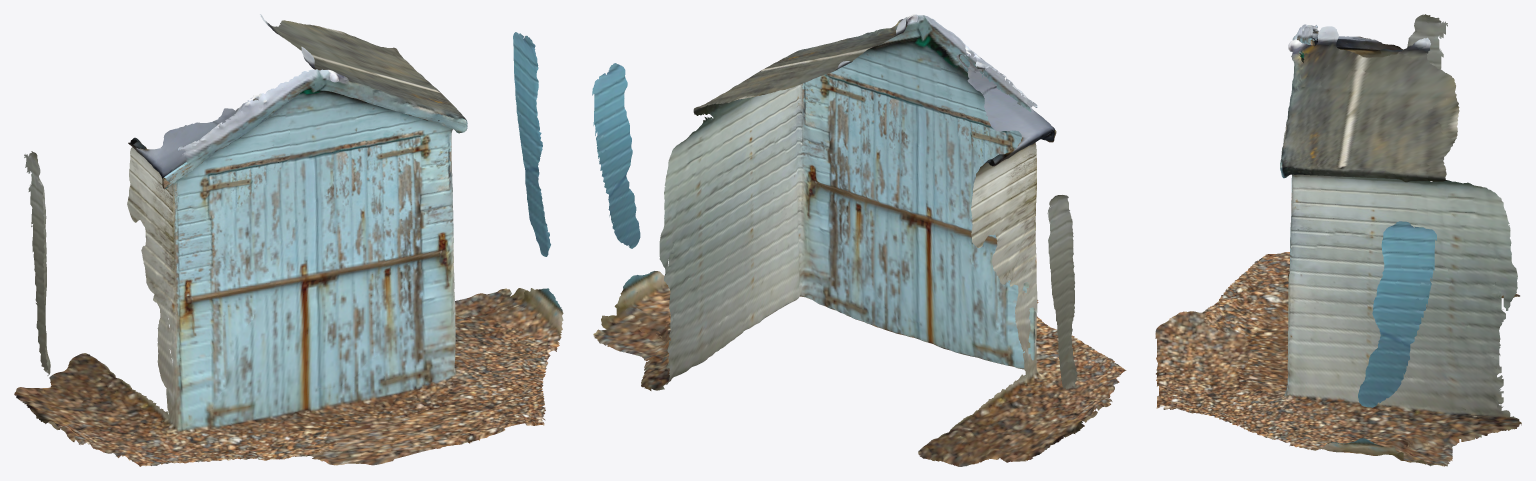
The model's file is beach_hut.glb.
3 views of the same model, side by side, from view 1: azimuth 30°, elevation 25°; view 2: azimuth 150°, elevation 25°; view 3: azimuth 270°, elevation 25° (orthographic). The views are drawn at different scales.
Parts seen in each view (by area): view 1: Object_2, Object_3; view 2: Object_2, Object_3; view 3: Object_2, Object_3.
Boxes of the visible parts, x1,y1,x2,y2 form: Object_2: (14, 14, 557, 466); Object_3: (16, 32, 563, 465); Object_2: (593, 14, 1126, 466); Object_3: (592, 27, 1119, 466); Object_2: (1155, 14, 1521, 466); Object_3: (1170, 27, 1521, 453).
Bounding box in the file's own units: 3.82 × 2.67 × 2.67.
Materials: 1 (1 with a texture image).
